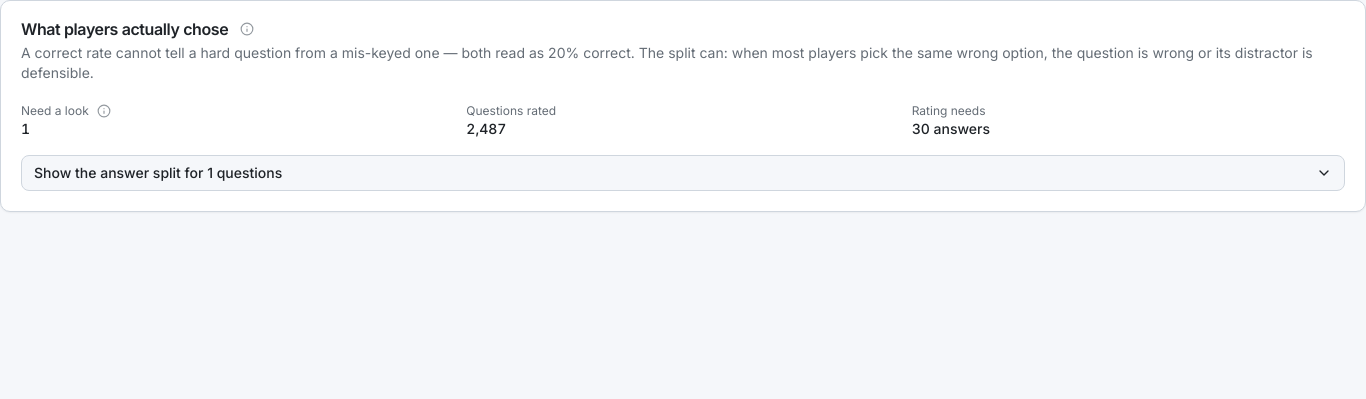
Test: questionQuality › marks a question a wrong option won
Click the button "Show the answer split for 1 questions" at point(158, 172), box x1=21 y1=155 x2=1345 y2=191
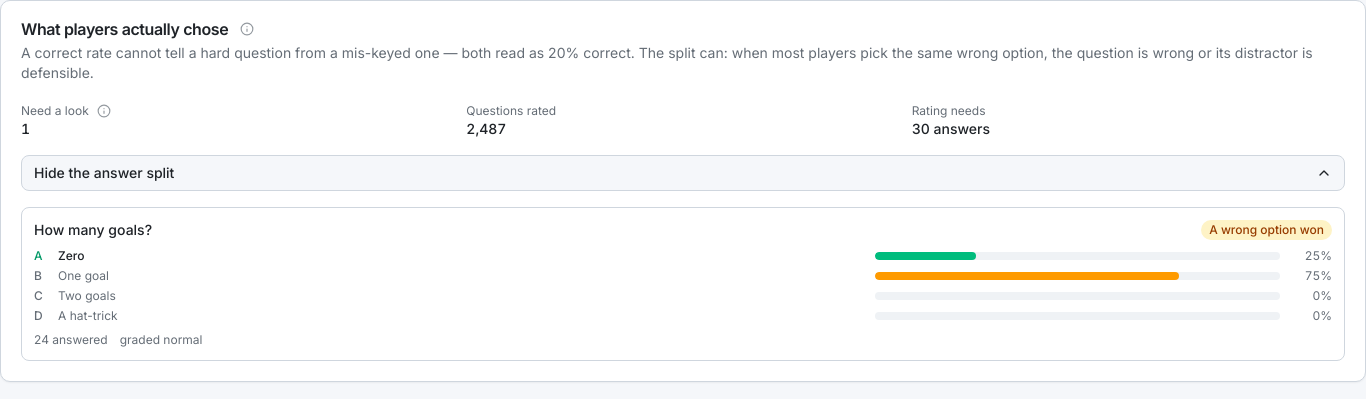
expect the text "A wrong option won" is shown: met, box x1=1201 y1=220 x2=1332 y2=240
expect the text "How many goals?" is shown: met, box x1=34 y1=221 x2=152 y2=238
